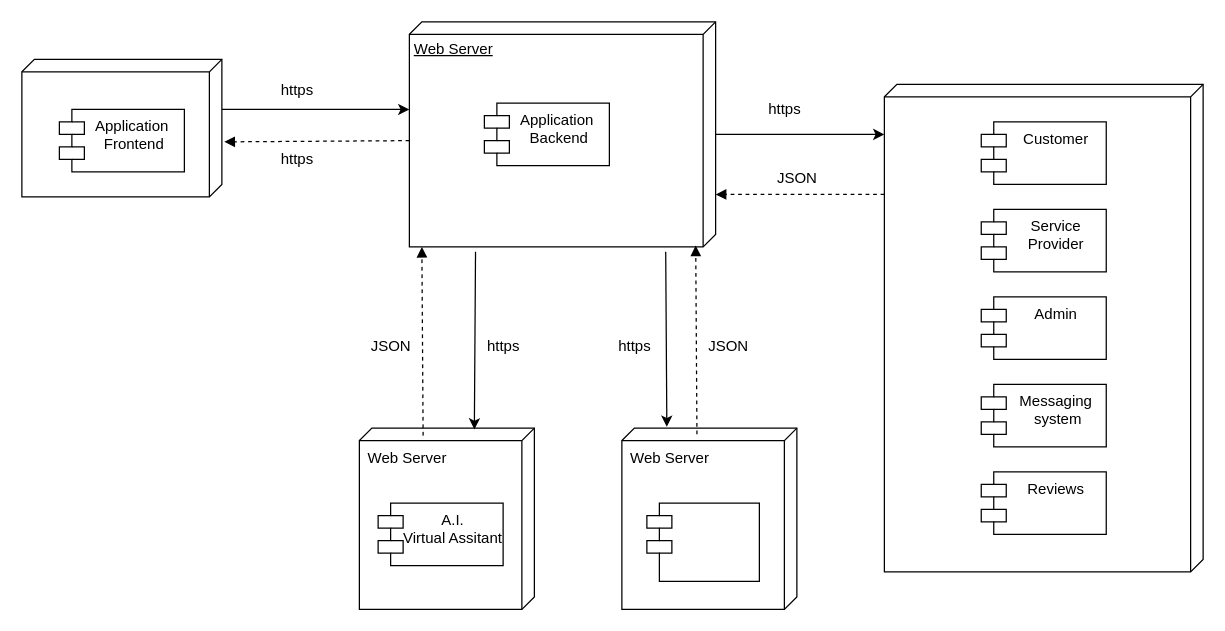
The diagram is 1225 pixels wide and 631 high, and some of its shapes have lost their labels. The box of each missing label's shape, as (x1, y1, x2, y2) in pixels:
Database: (883, 83, 1203, 572)
Payment Gateway Service: (646, 502, 759, 581)
WebBrowser: (21, 58, 222, 197)
